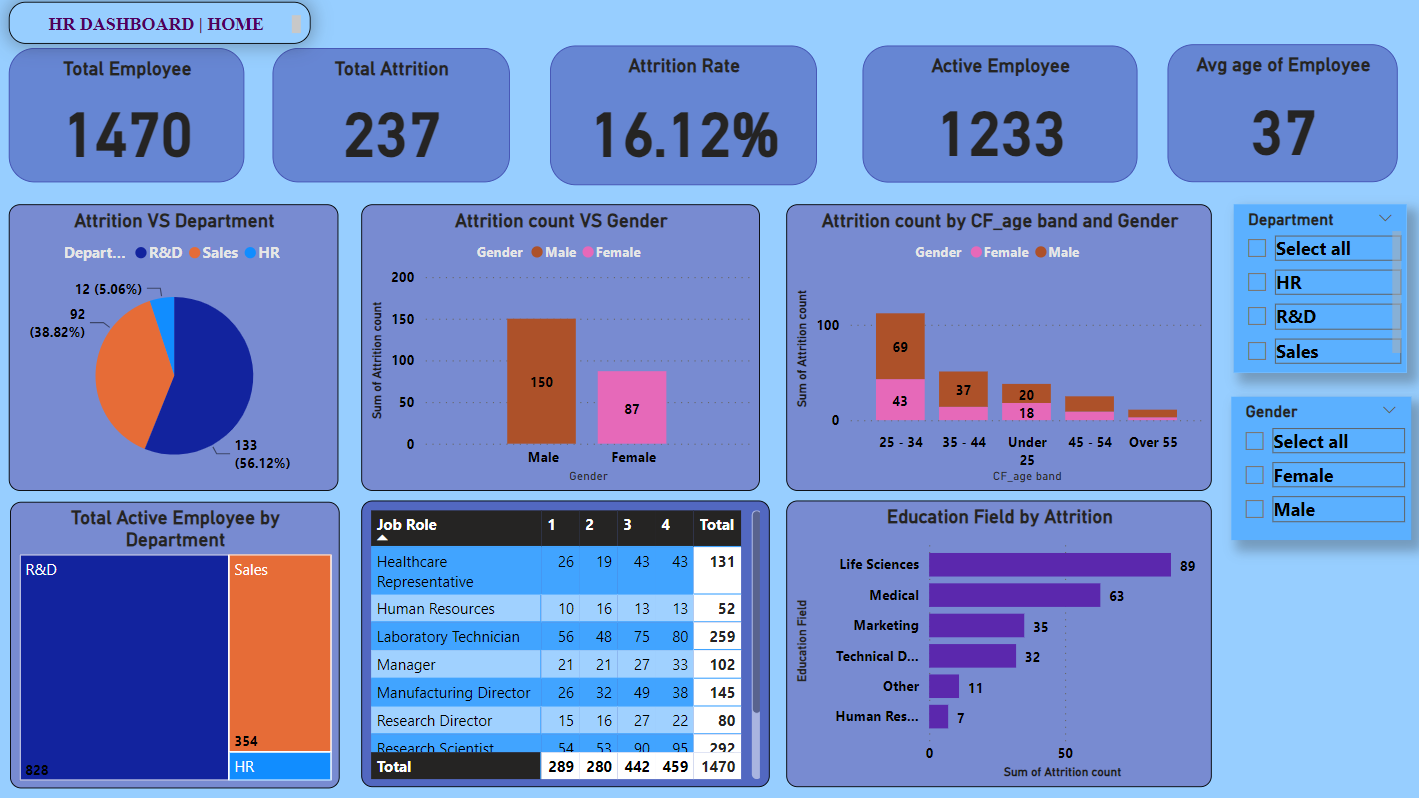

What the dashboard file says about the page in this screenshot:
{"tool":"powerbi","page":{"name":"Page 1","canvas":[1280,720],"ordinal":0},"visuals":[{"type":"card","title":"Total Employee","fields":{"Values":["Sum(HR data.Employee Count)"]},"box":[12.8,48.8,210.5,119.8],"z":0},{"type":"card","title":"Total Attrition","fields":{"Values":["Sum(HR data.Attrition count)"]},"box":[247.7,48.8,211.6,119.8],"z":1},{"type":"card","title":"Attrition Rate","fields":{"Values":["HR data.Attrition rate"]},"box":[495.4,46.5,238.4,124.4],"z":2},{"type":"card","title":"Active Employee","fields":{"Values":["HR data.Active Employees"]},"box":[774.4,46.5,245.3,122.1],"z":4},{"type":"card","title":"Avg age of Employee","fields":{"Values":["HR data.Average Age"]},"box":[1046.5,45.3,205.8,123.3],"z":5},{"type":"pieChart","title":" Attrition VS Department","fields":{"Category":["HR data.Department"],"Y":["Sum(HR data.Attrition count)"]},"box":[12.8,188.4,294.2,255.8],"z":6},{"type":"columnChart","title":"Attrition count  VS Gender","fields":{"Y":["Sum(HR data.Attrition count)"],"Category":["HR data.Gender"],"Series":["HR data.Gender"]},"box":[326.7,188.4,355.8,255.8],"z":7},{"type":"columnChart","title":"Attrition count by CF_age band and Gender","fields":{"Category":["HR data.CF_age band"],"Y":["Sum(HR data.Attrition count)"],"Series":["HR data.Gender"]},"box":[707,188.4,380.2,255.8],"z":8},{"type":"treemap","title":"Total Active Employee by Department","fields":{"Values":["Sum(HR data.CF_current Employee)"],"Group":["HR data.Department"]},"box":[13,454,294,256],"z":9},{"type":"pivotTable","fields":{"Rows":["HR data.Job Role"],"Columns":["HR data.Job Satisfaction"],"Values":["Sum(HR data.Employee Count)"]},"box":[326.7,453.5,365.1,255.8],"z":10},{"type":"clusteredBarChart","title":"Education Field by Attrition","fields":{"Category":["HR data.Education Field"],"Y":["Sum(HR data.Attrition count)"]},"box":[707,453,380,256],"z":11},{"type":"slicer","fields":{"Values":["HR data.Gender"]},"box":[1103.5,360.5,160.5,127.9],"z":12},{"type":"slicer","fields":{"Values":["HR data.Department"]},"box":[1105.8,188.4,154.7,150],"z":13},{"type":"textbox","box":[12.8,8.1,269.8,37.2],"z":14}]}

Visuals, with their boxes in screenshot pixels (x1, y1, x2, y2), scaled from the page's 1280x720 canvas onto the 1419x798 screenshot:
"Total Employee" card: l=14, t=54, r=248, b=187
"Total Attrition" card: l=275, t=54, r=509, b=187
"Attrition Rate" card: l=549, t=52, r=813, b=189
"Active Employee" card: l=858, t=52, r=1130, b=187
"Avg age of Employee" card: l=1160, t=50, r=1388, b=187
" Attrition VS Department" pieChart: l=14, t=209, r=340, b=492
"Attrition count  VS Gender" columnChart: l=362, t=209, r=757, b=492
"Attrition count by CF_age band and Gender" columnChart: l=784, t=209, r=1205, b=492
"Total Active Employee by Department" treemap: l=14, t=503, r=340, b=787
pivotTable - HR data.Job Role x HR data.Job Satisfaction: l=362, t=503, r=767, b=786
"Education Field by Attrition" clusteredBarChart: l=784, t=502, r=1205, b=786
slicer - HR data.Gender: l=1223, t=400, r=1401, b=541
slicer - HR data.Department: l=1226, t=209, r=1397, b=375
textbox: l=14, t=9, r=313, b=50
